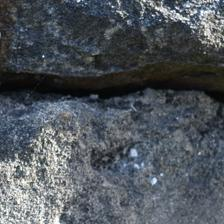Crack: (3, 34, 221, 89)
